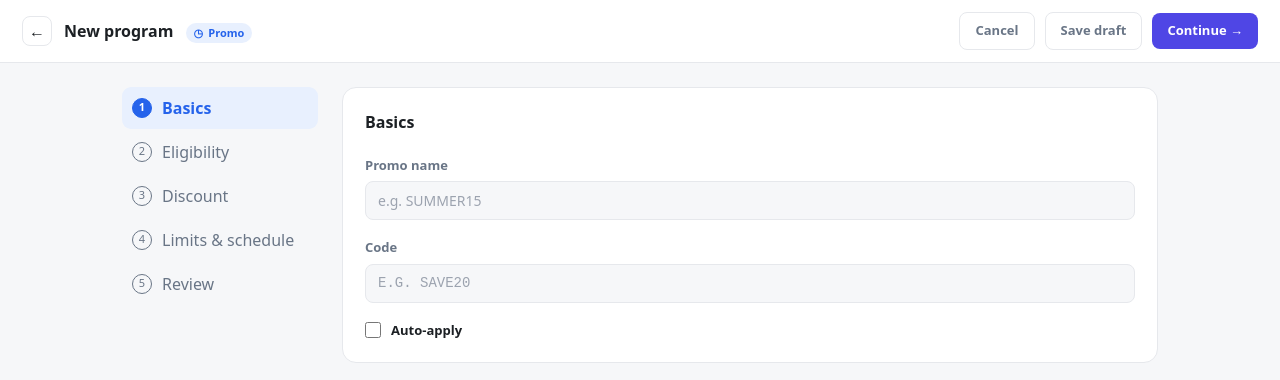
it: Continue advances from Basics to Eligibility
This screenshot has width=1280, height=380.
Expected: the field labelled "Promo name" is shown, top-left (365, 181), bottom-right (1135, 220)
Click the button "Continue →" at {"x": 1205, "y": 31}, box top-left (1152, 13), bottom-right (1258, 48)
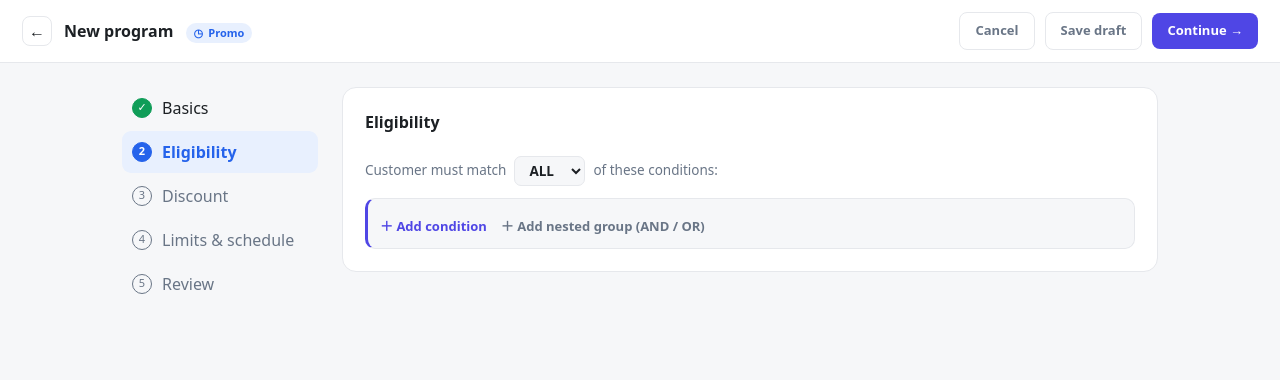
Result: the button "＋ Add condition" is shown at top-left (380, 216), bottom-right (487, 236)
